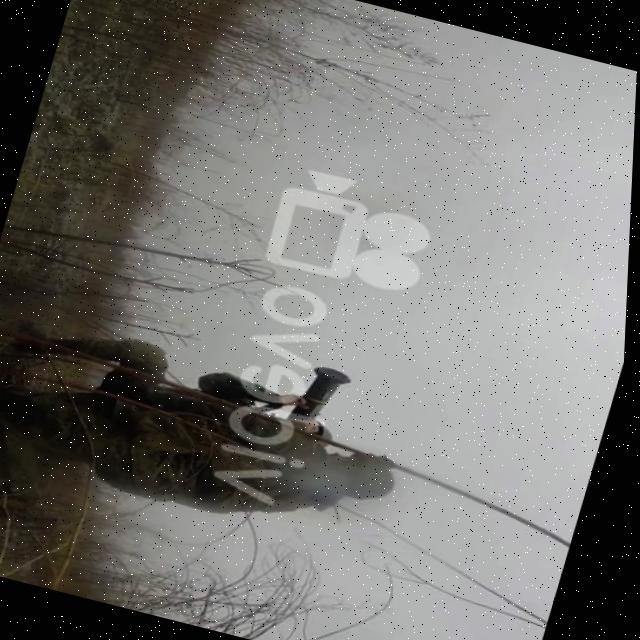rocket: (276, 355, 358, 429)
